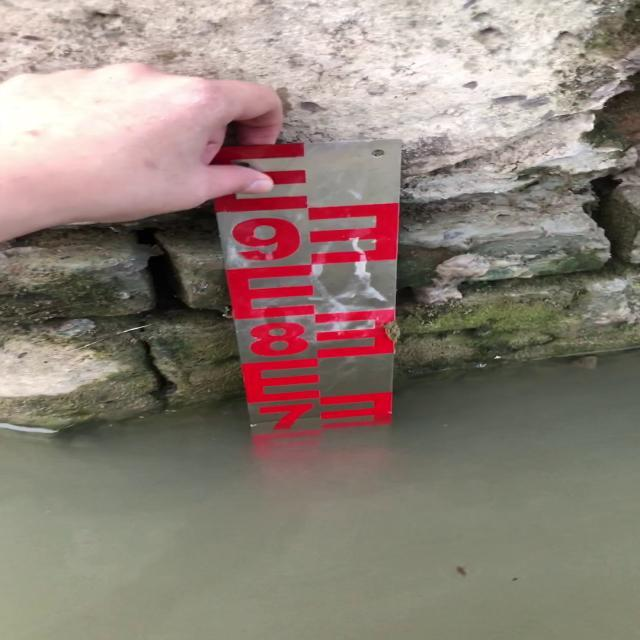ruler: (190, 128, 424, 446)
value: (214, 209, 314, 272), (233, 316, 320, 364)
